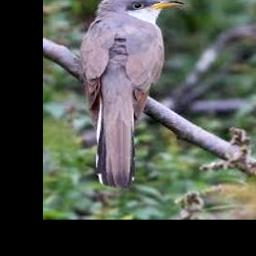Cuckoo: (79, 0, 184, 187)
